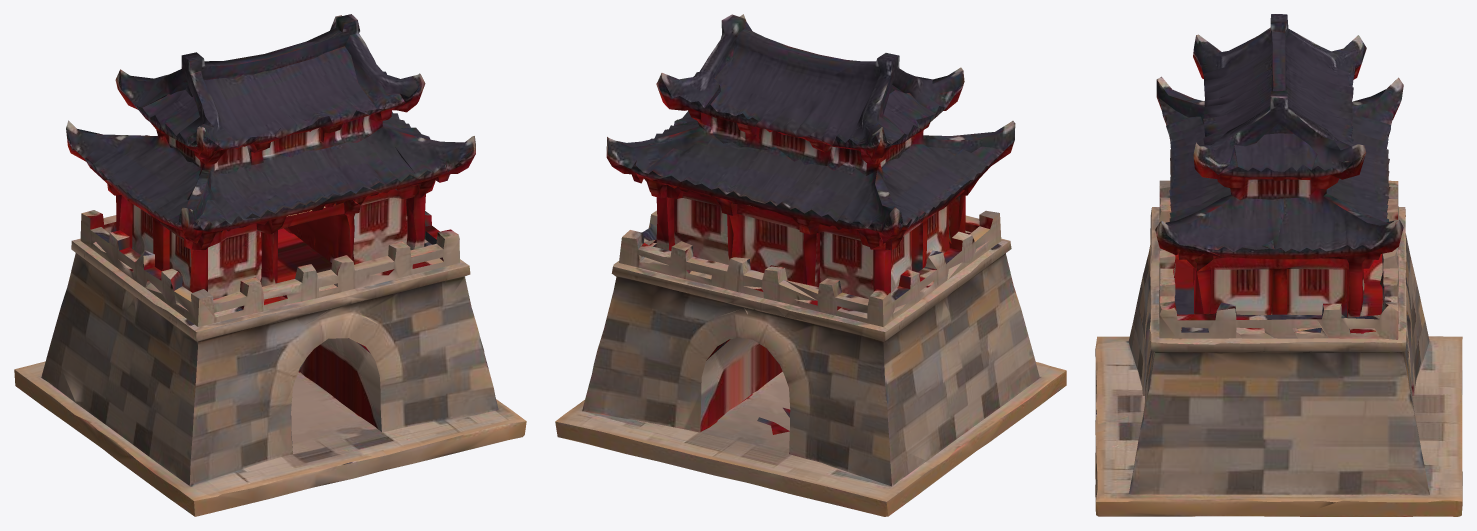
The model's file is hsinchu-east-gate.glb.
3 views of the same model, side by side, from view 1: azimuth 30°, elevation 25°; view 2: azimuth 150°, elevation 25°; view 3: azimuth 270°, elevation 25° (orthographic).
Parts seen in each view (by area): view 1: logan-textured.obj; view 2: logan-textured.obj; view 3: logan-textured.obj.
Boxes of the visible parts, left/top/right/bottom form: logan-textured.obj: left=14, top=14, right=526, bottom=516; logan-textured.obj: left=555, top=14, right=1066, bottom=516; logan-textured.obj: left=1095, top=14, right=1462, bottom=516.
Size of the model in its own units: 0.9326 by 1 by 0.878.
1 material, 1 textured.
